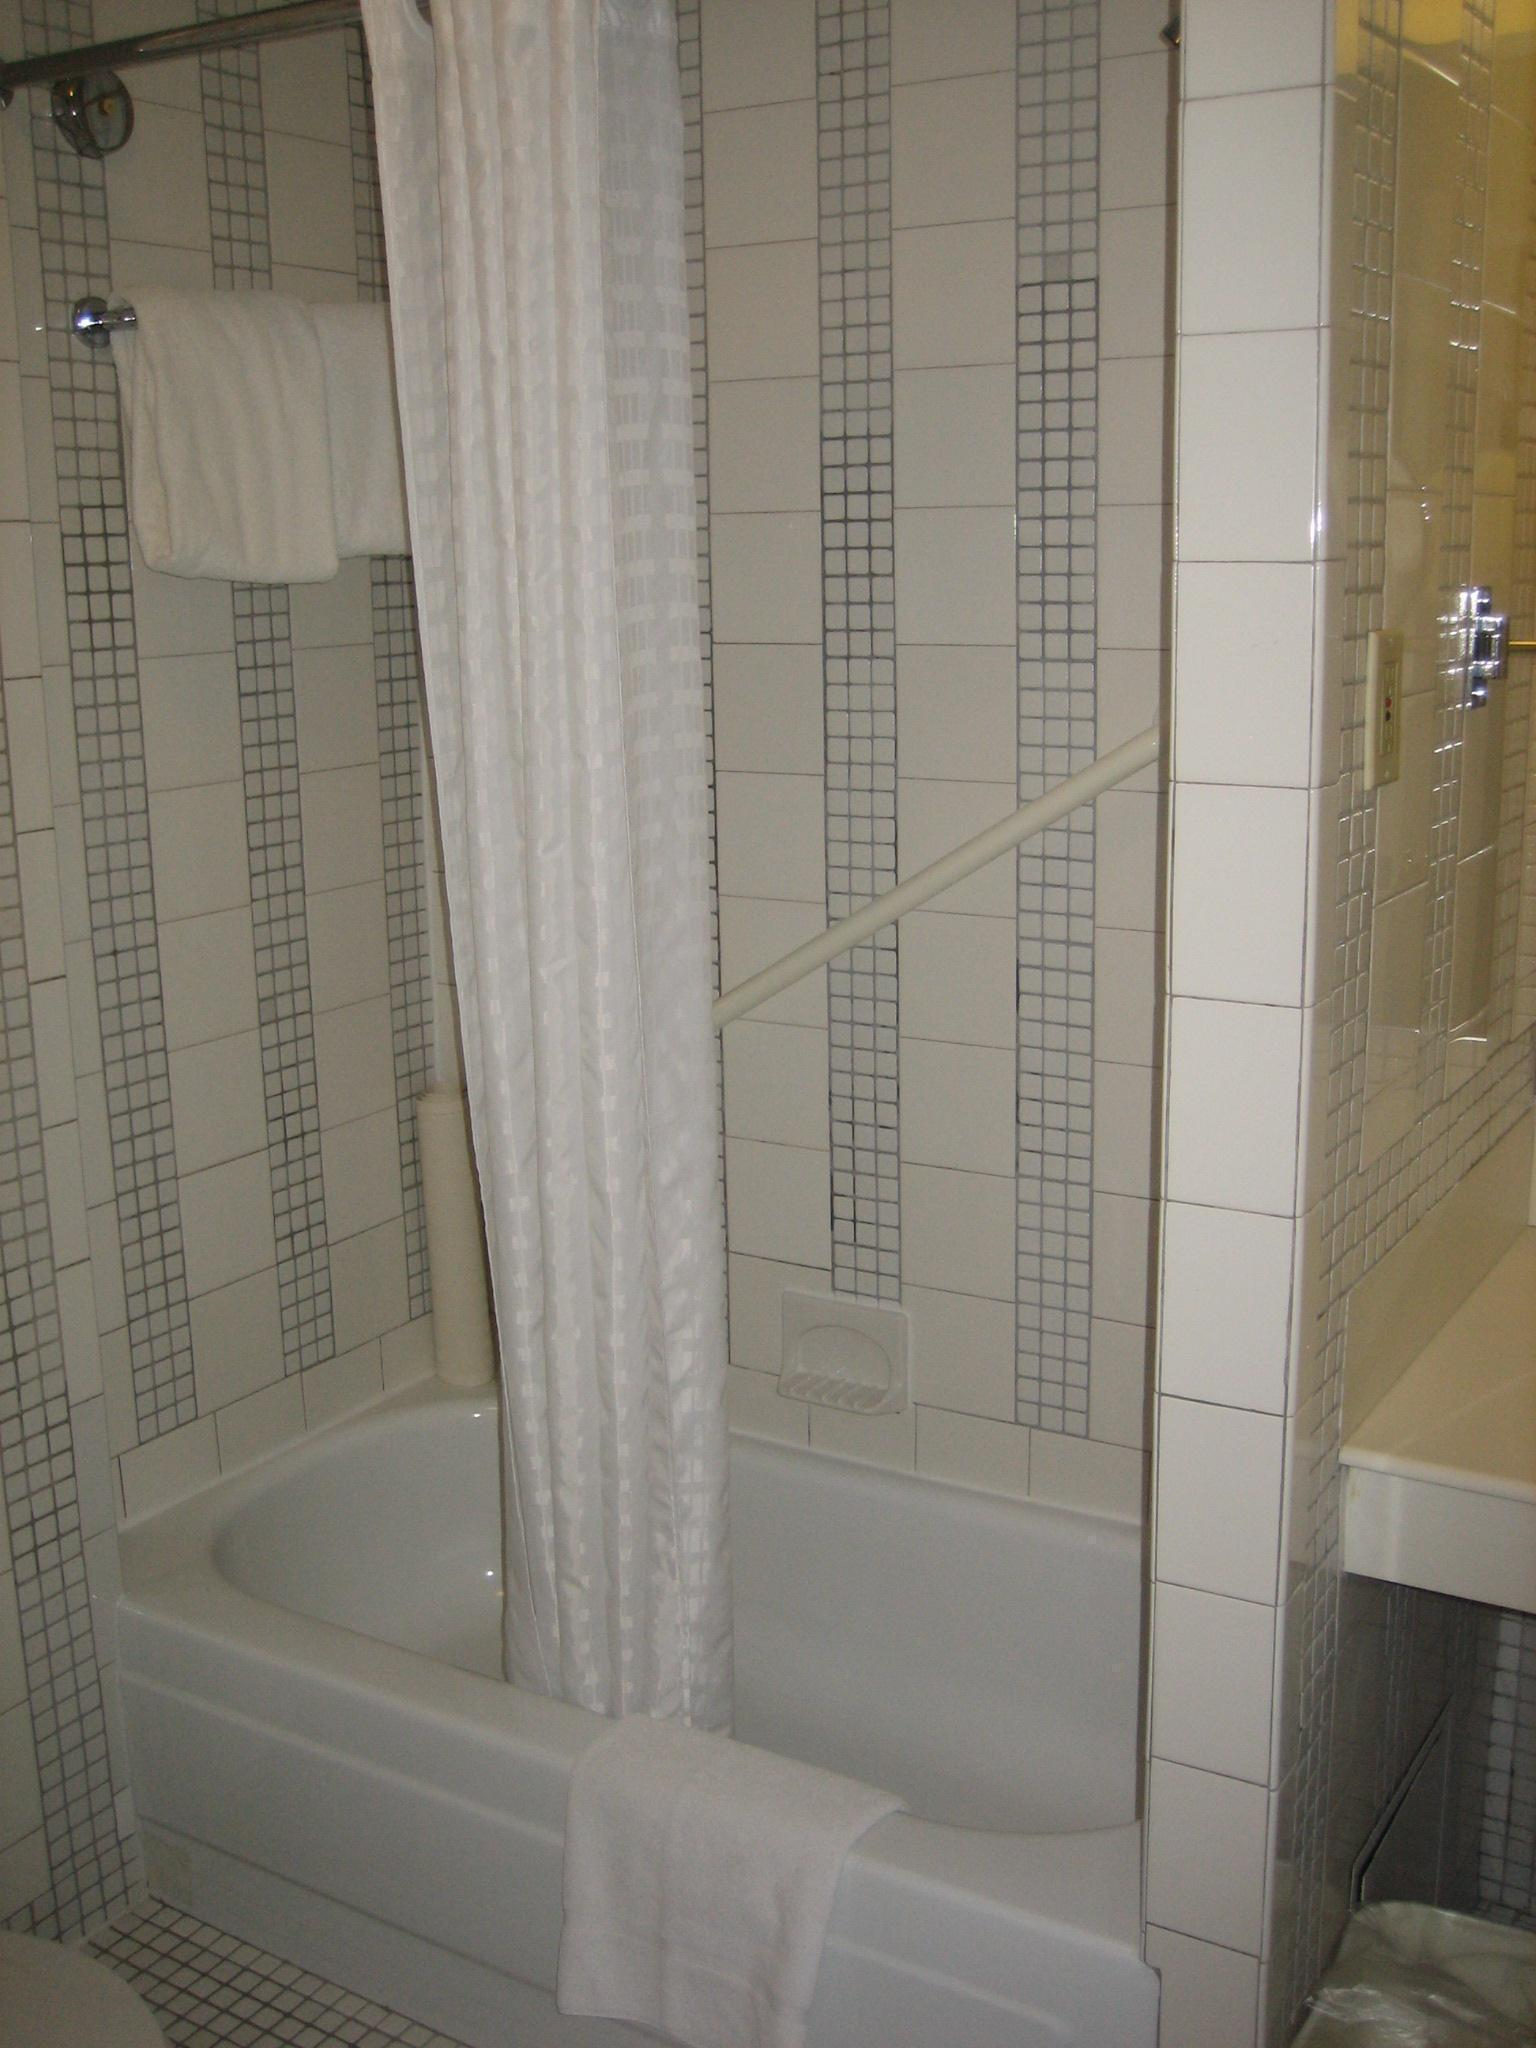Ducha: (53, 40, 502, 1450)
